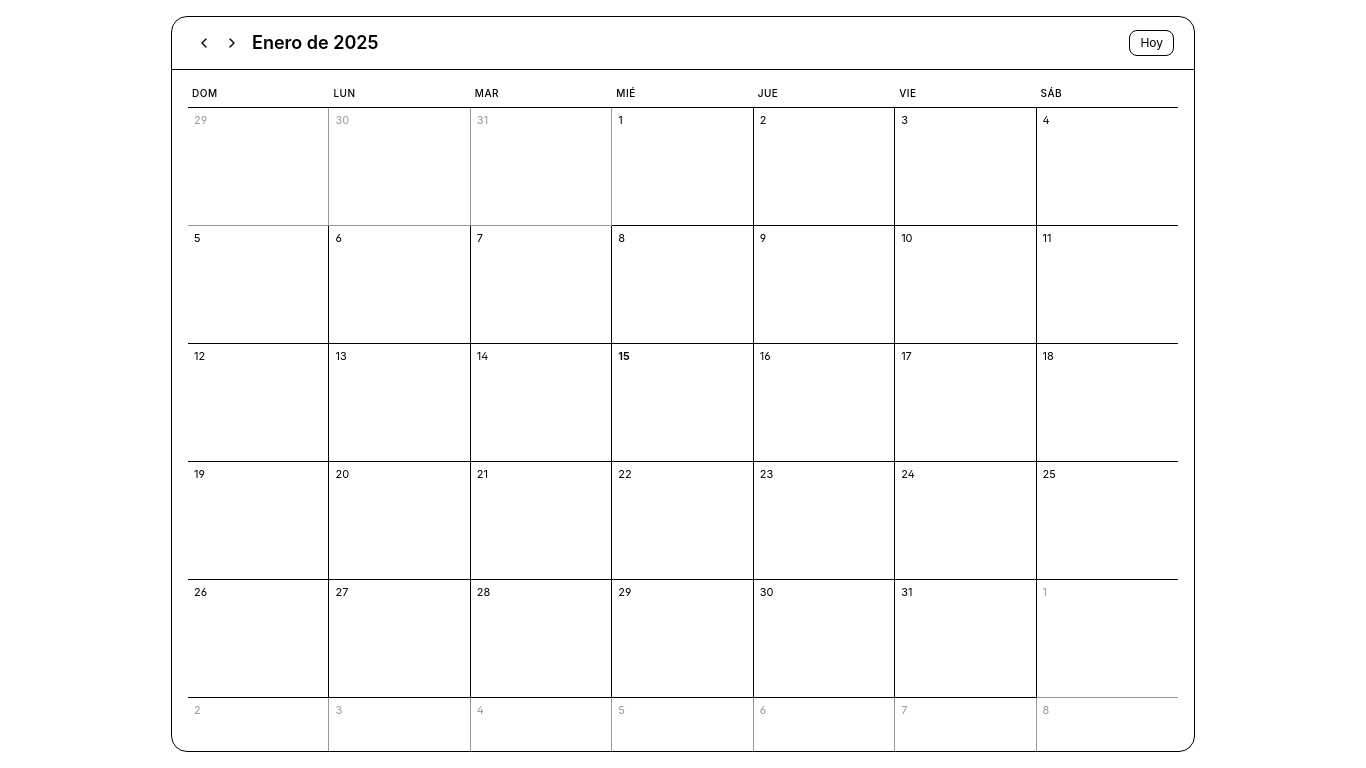
it: MonthAgendaPopup › la flecha anterior desde enero va a diciembre del año anterior
The image size is (1366, 768).
Click the button with test id "month-agenda-prev".
click(204, 43)  # box [192,31,216,55]
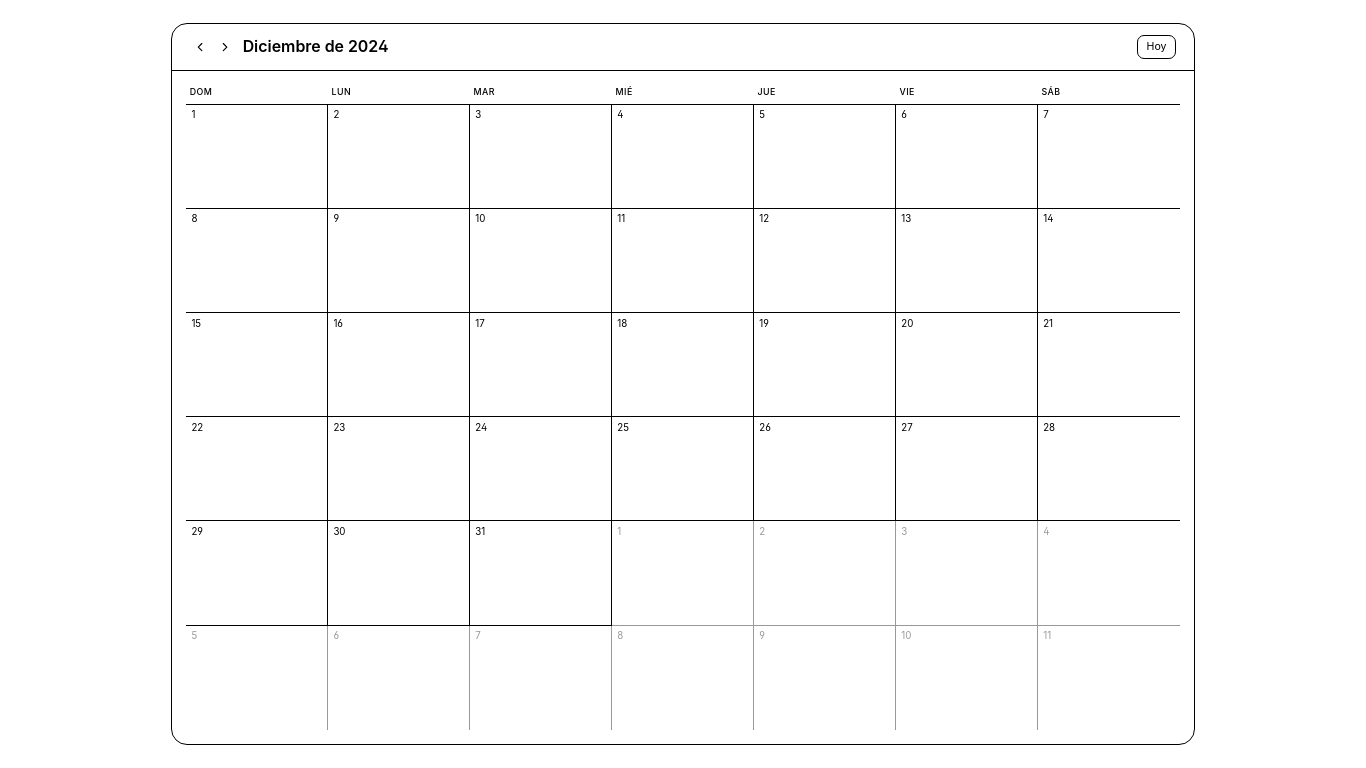
Now the text with test id "month-agenda-title" reads "Diciembre de 2024", box [243,36,389,56]
